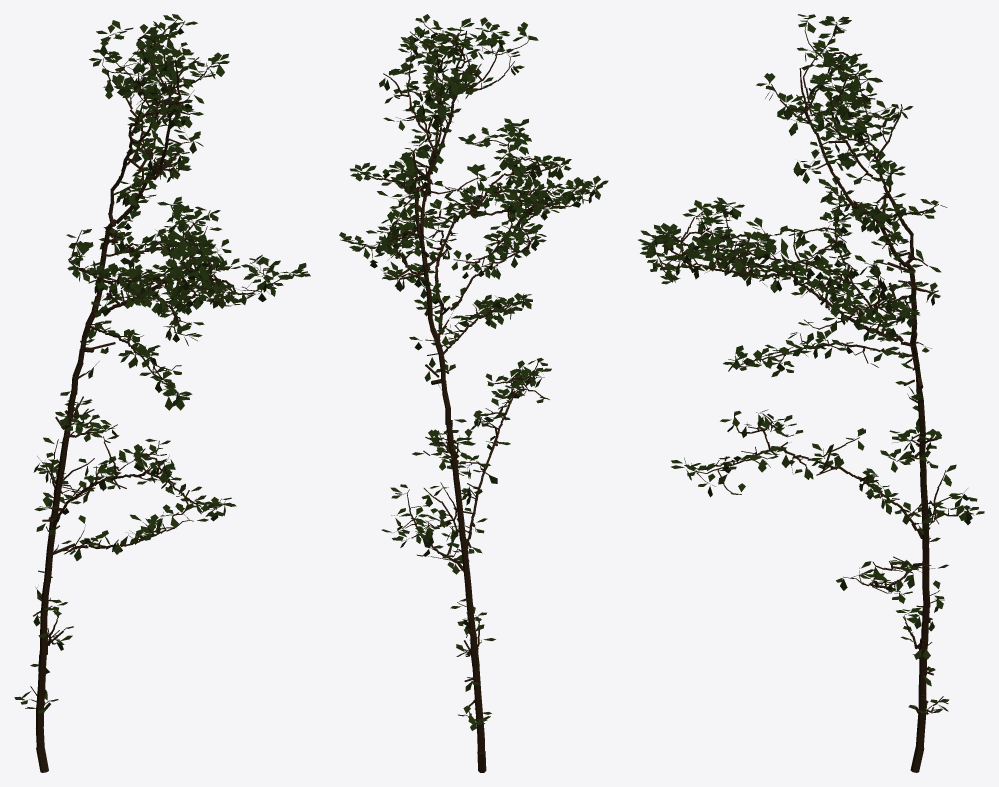
The model's file is tree_278.obj.
3 renders of one model, left to right at view 1: azimuth 30°, elevation 25°; view 2: azimuth 150°, elevation 25°; view 3: azimuth 270°, elevation 25°, orthographic. The views are drawn at different scales.
Parts seen in each view (by area): view 1: Leaves, TrunkAndBranches; view 2: Leaves, TrunkAndBranches; view 3: Leaves, TrunkAndBranches.
Part boxes in pixels (x1,y1,x2,y2): Leaves: [14, 14, 310, 713]; TrunkAndBranches: [25, 19, 297, 772]; Leaves: [339, 14, 608, 730]; TrunkAndBranches: [340, 20, 598, 772]; Leaves: [638, 14, 984, 713]; TrunkAndBranches: [652, 18, 974, 772].
Size of the model in its own units: 4.34 by 17.03 by 6.96.
